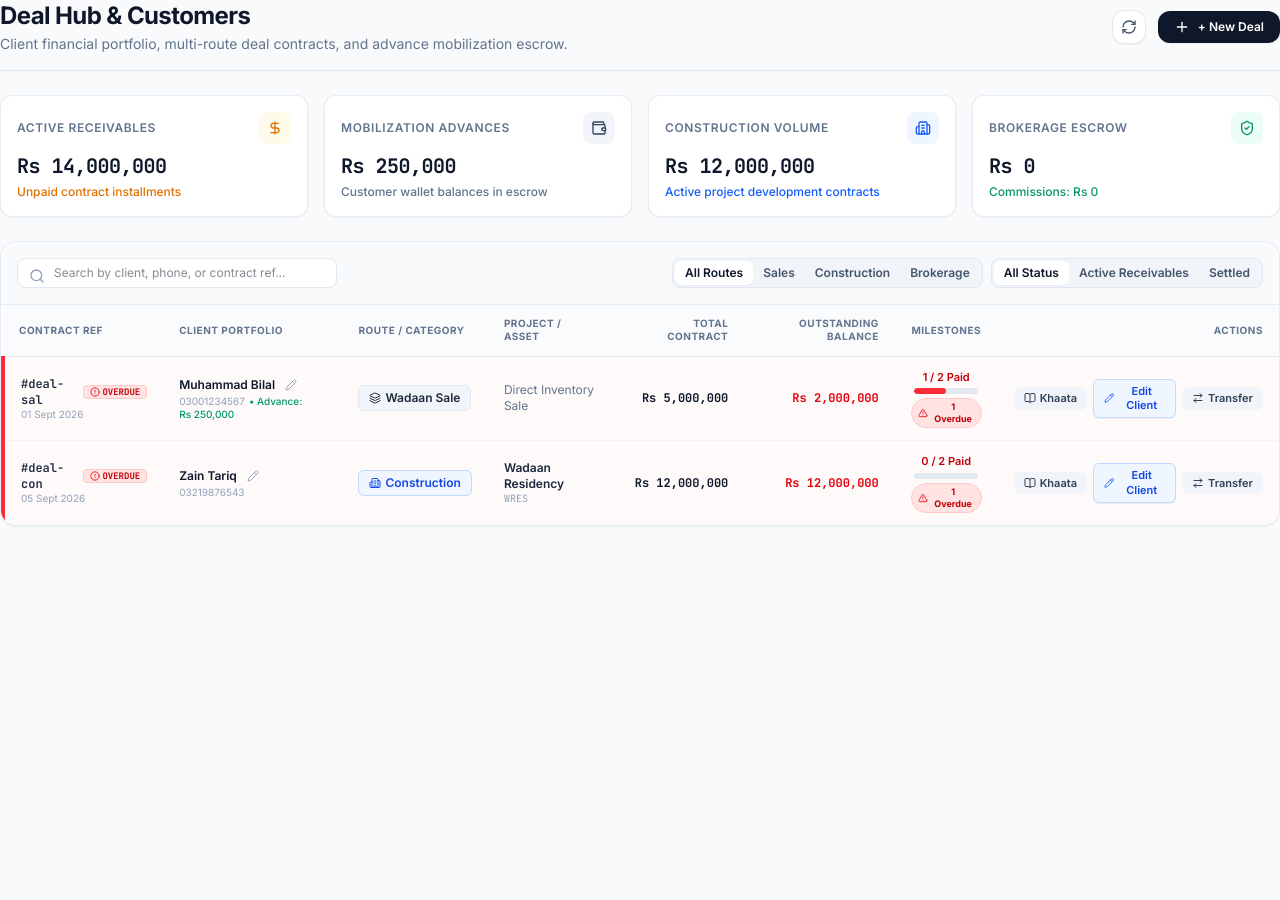
Test case: Screen 8: Deal Hub & Customer Portfolio (DealHubPage) › 6. clicking "Khaata" action button opens CustomerKhaataDrawer
Click the button with test id "btn-khaata-deal-sale-1": {"x": 1050, "y": 399} x1=1014 y1=387 x2=1087 y2=410
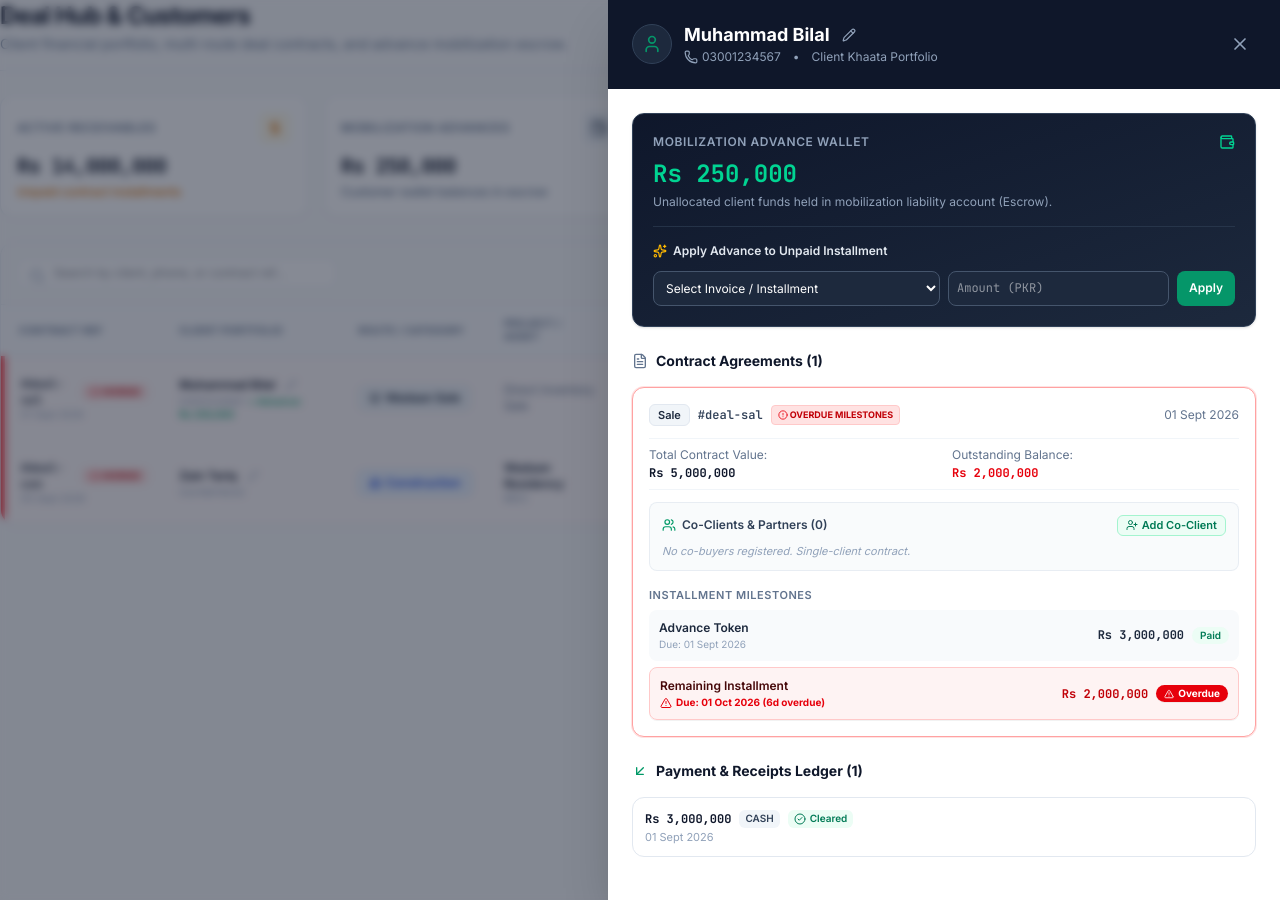
Check: the element with test id "customer-khaata-drawer" is shown
Check: the text "Mobilization Advance Wallet" is shown, box x1=653 y1=134 x2=870 y2=150
